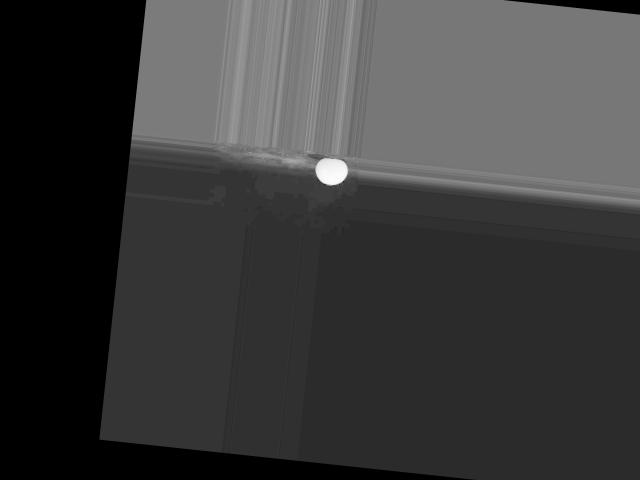egg: (313, 156, 348, 186)
